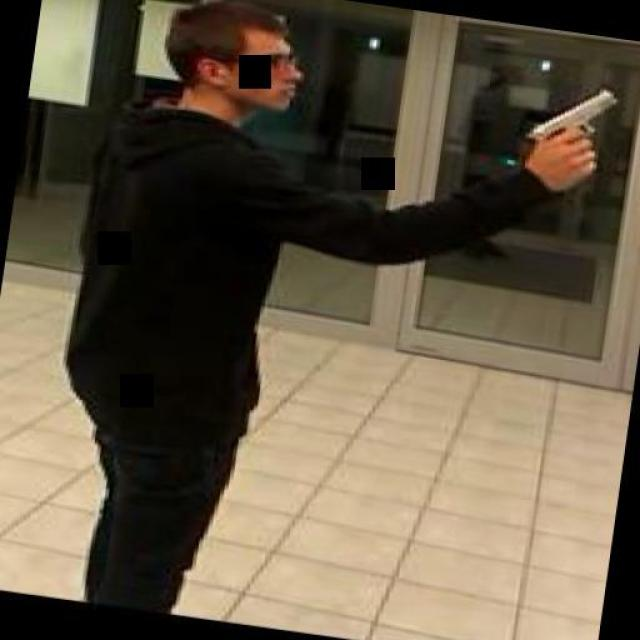gun: (517, 76, 615, 175)
